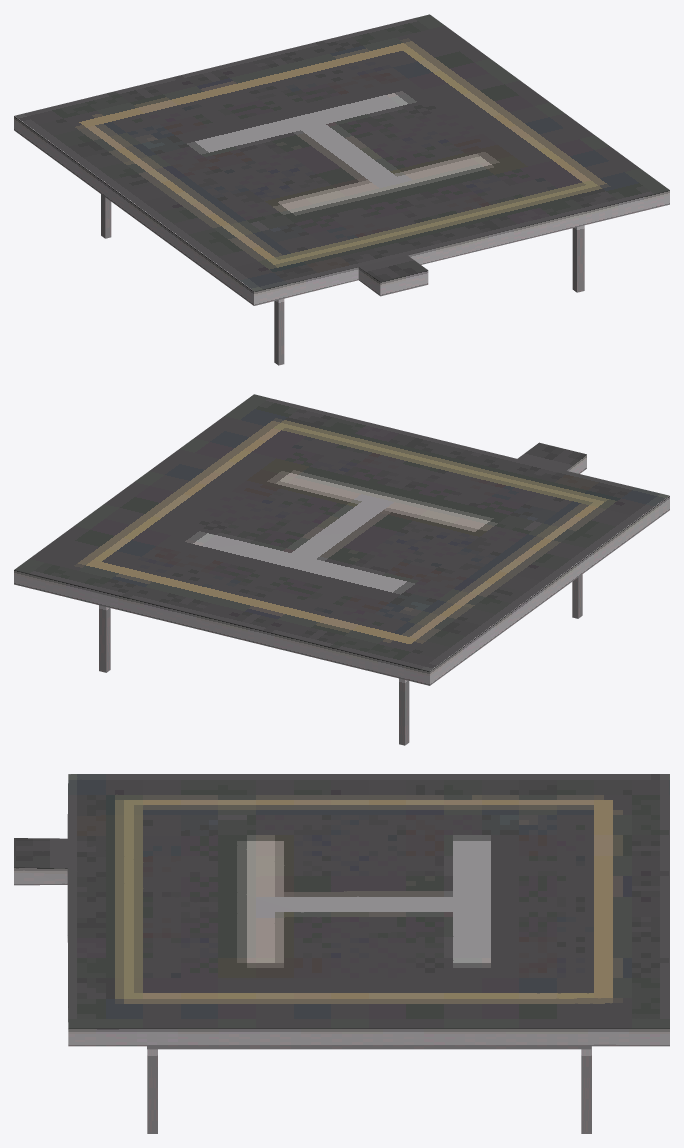
File: lodmheliprt1.obj
3 views of the same model, one above another, from view 1: azimuth 30°, elevation 25°; view 2: azimuth 150°, elevation 25°; view 3: azimuth 270°, elevation 25° (orthographic). The views are drawn at different scales.
Visible parts, largest first — view 1: lodmheliprt1; view 2: lodmheliprt1; view 3: lodmheliprt1.
Boxes of the visible parts, x1,y1,x2,y2 form: lodmheliprt1: [14, 14, 669, 365]; lodmheliprt1: [14, 394, 669, 745]; lodmheliprt1: [14, 774, 669, 1133].
Size of the model in its own units: 24.83 by 6.31 by 27.07.
1 material, 1 textured.
